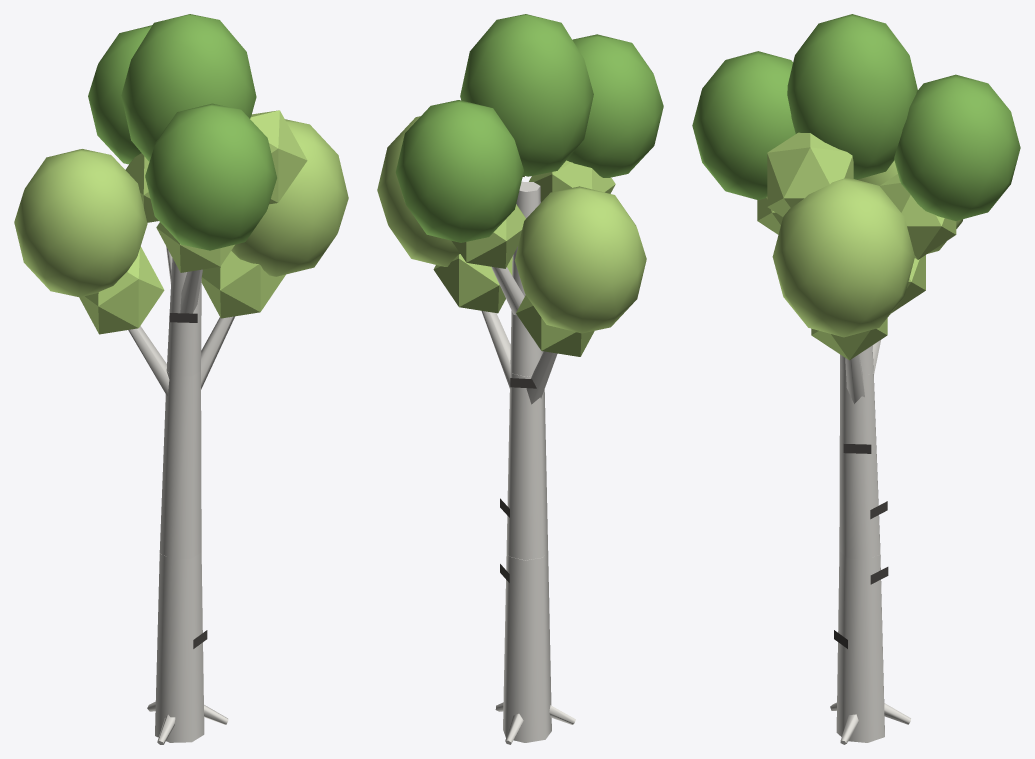
The model's file is silver-birch.glb.
3 renders of one model, left to right at view 1: azimuth 30°, elevation 25°; view 2: azimuth 150°, elevation 25°; view 3: azimuth 270°, elevation 25°, orthographic.
Parts seen in each view (by area): view 1: Merged_foliage-light, Merged_foliage, Merged_birch-bark; view 2: Merged_foliage, Merged_foliage-light, Merged_birch-bark; view 3: Merged_foliage, Merged_foliage-light, Merged_birch-bark, Merged_birch-scar-surface.
Boxes of the visible parts, box(x1,y1,x2,y2) form: Merged_foliage-light: box(14, 110, 348, 334); Merged_foliage: box(88, 14, 276, 250); Merged_birch-bark: box(128, 246, 234, 744); Merged_foliage: box(395, 14, 663, 242); Merged_foliage-light: box(377, 116, 646, 356); Merged_birch-bark: box(481, 181, 575, 744); Merged_foliage: box(692, 14, 1020, 220); Merged_foliage-light: box(757, 132, 962, 360); Merged_birch-bark: box(830, 340, 910, 744); Merged_birch-scar-surface: box(834, 444, 888, 648).
Size of what is drawn, in the model's own units: 1.76 by 4.24 by 1.76.
